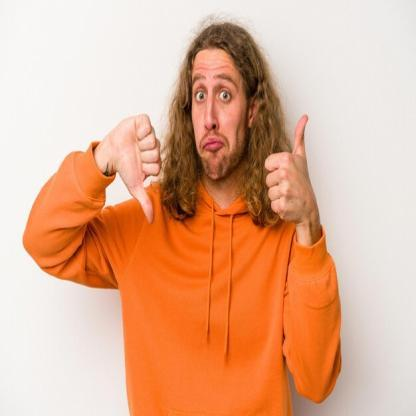thumb_down: (105, 112, 166, 228)
thumb_up: (260, 110, 318, 226)
